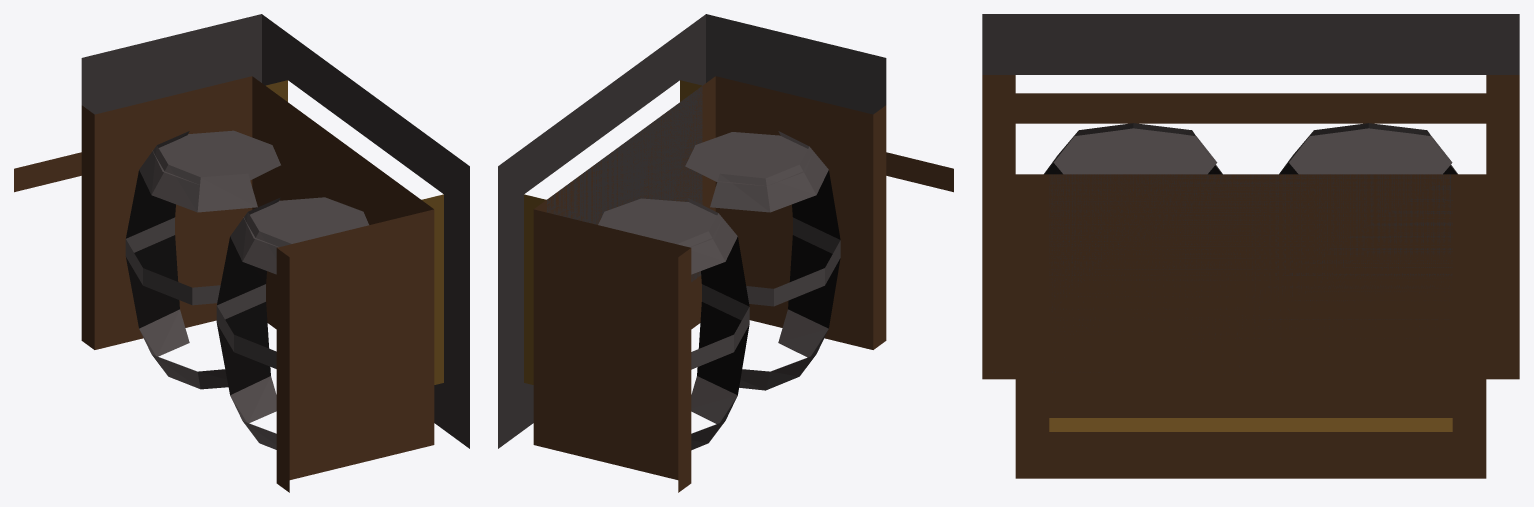
The model's file is obj_bar_pumps_2_0.obj.
3 renders of one model, left to right at view 1: azimuth 30°, elevation 25°; view 2: azimuth 150°, elevation 25°; view 3: azimuth 270°, elevation 25°, orthographic. The views are drawn at different scales.
Bounding box in the file's own units: 0.6875 × 0.75 × 1.
